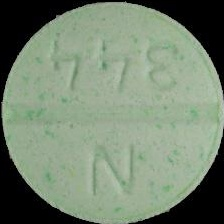0615-1556: (0, 0, 224, 224)
